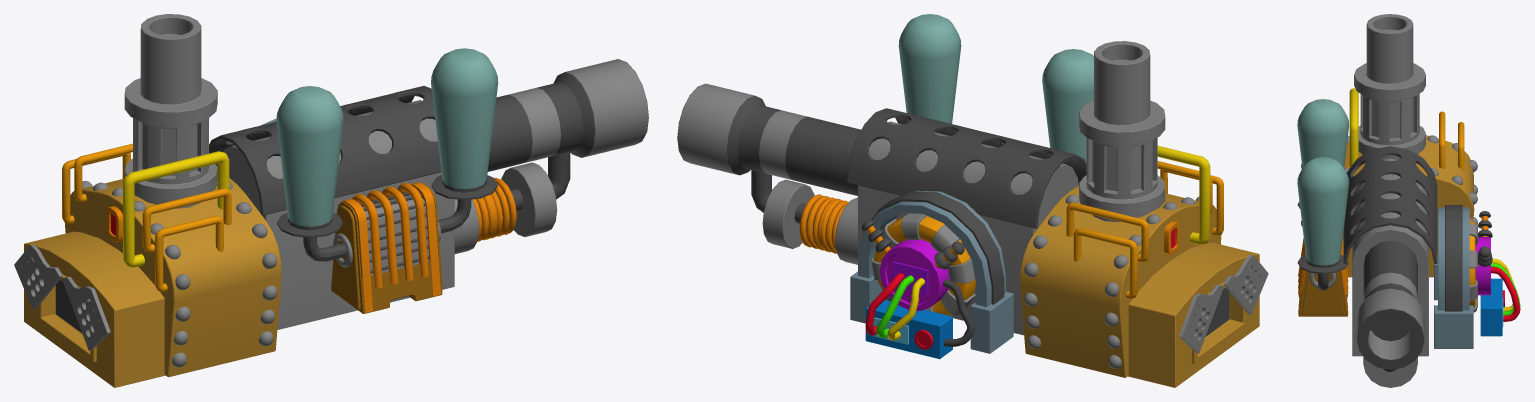
The model's file is Weapun6.fbx.
3 views of the same model, side by side, from view 1: azimuth 30°, elevation 25°; view 2: azimuth 150°, elevation 25°; view 3: azimuth 270°, elevation 25° (orthographic). The views are drawn at different scales.
Visible parts, largest first — view 1: Cube.003, Plane.009, Cube.002, Cylinder.004, Cylinder.005, Cylinder.003, Circle.004, Plane.005, Cube.007, Cube.009, Plane.003, Plane.004 (+9 smaller); view 2: Plane.002, Cube.003, Cylinder.003, Cylinder.005, Cylinder.004, Cube.002, Plane.009, Circle.004, Plane.005, Plane.003, Cylinder.001, Plane.004 (+4 smaller); view 3: Plane.002, Plane.009, Cylinder.004, Cylinder.005, Cylinder.003, Circle.004, Cube.003, Cube.007, Cylinder.001, Plane.004, Plane.005, Cube.009 (+2 smaller).
Part boxes in pixels (left/top/right/bottom): Cube.003: left=65, top=178, right=281, bottom=377; Plane.009: left=276, top=48, right=498, bottom=267; Cube.002: left=24, top=231, right=165, bottom=387; Cylinder.004: left=124, top=14, right=217, bottom=208; Cylinder.005: left=487, top=59, right=648, bottom=171; Cylinder.003: left=209, top=86, right=441, bottom=215; Circle.004: left=217, top=100, right=454, bottom=329; Plane.005: left=62, top=143, right=231, bottom=291; Cube.007: left=331, top=183, right=442, bottom=313; Cube.009: left=352, top=182, right=428, bottom=288; Plane.003: left=14, top=244, right=110, bottom=350; Plane.004: left=123, top=151, right=229, bottom=267; Plane.002: left=850, top=190, right=1013, bottom=359; Cube.003: left=1020, top=186, right=1221, bottom=377; Cylinder.003: left=847, top=108, right=1086, bottom=228; Cylinder.005: left=677, top=83, right=860, bottom=195; Cylinder.004: left=1079, top=41, right=1165, bottom=222; Cube.002: left=1128, top=242, right=1259, bottom=387; Plane.009: left=898, top=14, right=1093, bottom=162; Circle.004: left=858, top=121, right=1078, bottom=335; Plane.005: left=1066, top=161, right=1223, bottom=298; Plane.003: left=1179, top=254, right=1268, bottom=353; Cylinder.001: left=762, top=179, right=814, bottom=248; Plane.004: left=1157, top=146, right=1210, bottom=244; Plane.002: left=1434, top=205, right=1520, bottom=348; Plane.009: left=1297, top=99, right=1349, bottom=290; Cylinder.004: left=1354, top=14, right=1425, bottom=159; Cylinder.005: left=1357, top=240, right=1424, bottom=369; Cylinder.003: left=1343, top=146, right=1437, bottom=263; Circle.004: left=1352, top=158, right=1428, bottom=356; Cube.003: left=1343, top=135, right=1473, bottom=277; Cube.007: left=1298, top=270, right=1347, bottom=316; Cylinder.001: left=1363, top=356, right=1417, bottom=387; Plane.004: left=1349, top=88, right=1358, bottom=166; Plane.005: left=1439, top=111, right=1464, bottom=170; Cube.009: left=1298, top=238, right=1348, bottom=294.
Bounding box in the file's own units: 1103 × 570 × 488.
